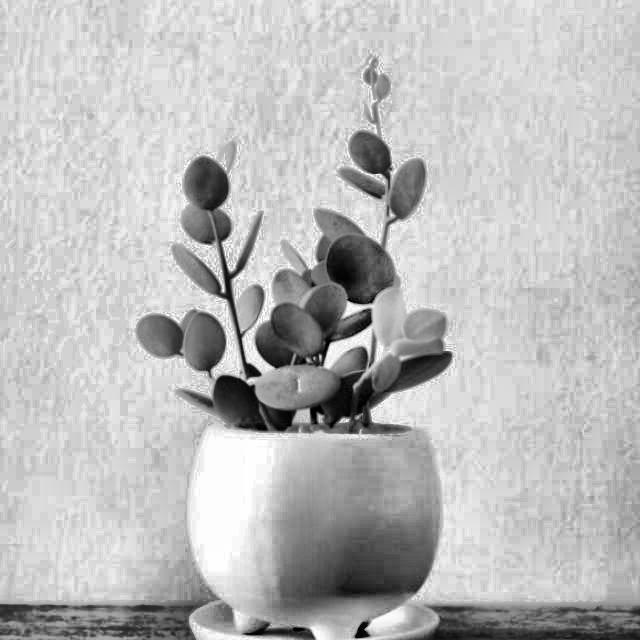plants: (95, 123, 428, 414)
